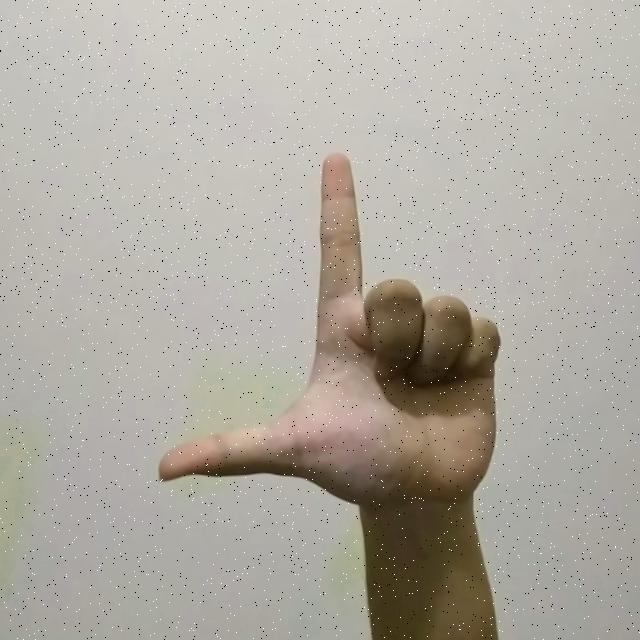L: (149, 147, 505, 521)
